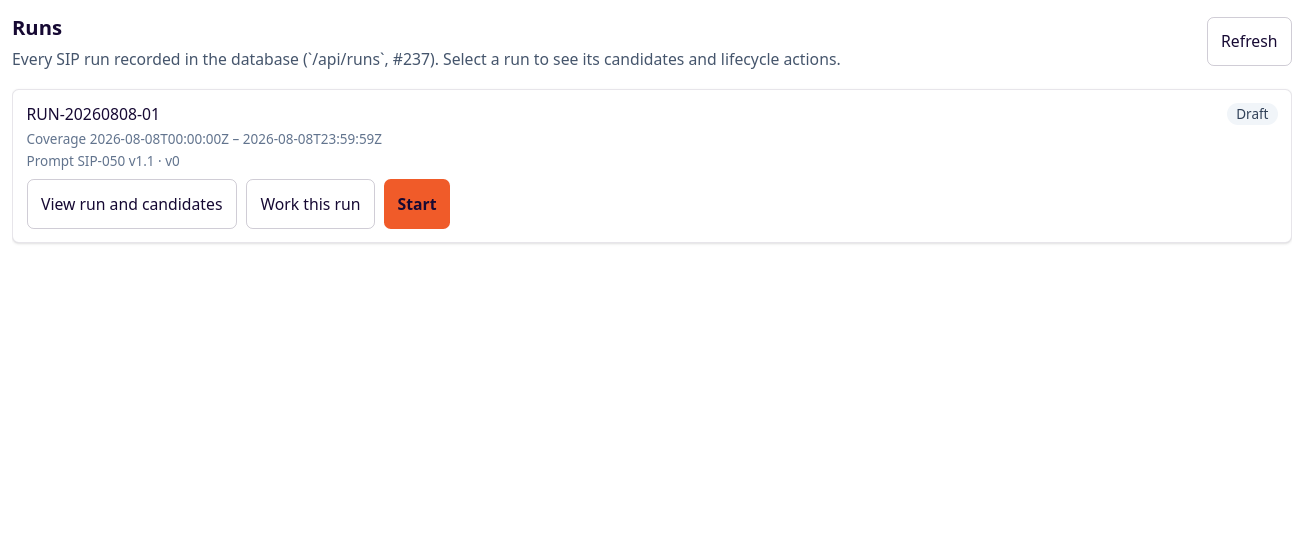
RunsListScreen › requires a reason before submitting an action
Click the button "Start": {"x": 417, "y": 204} top-left (384, 180), bottom-right (450, 229)
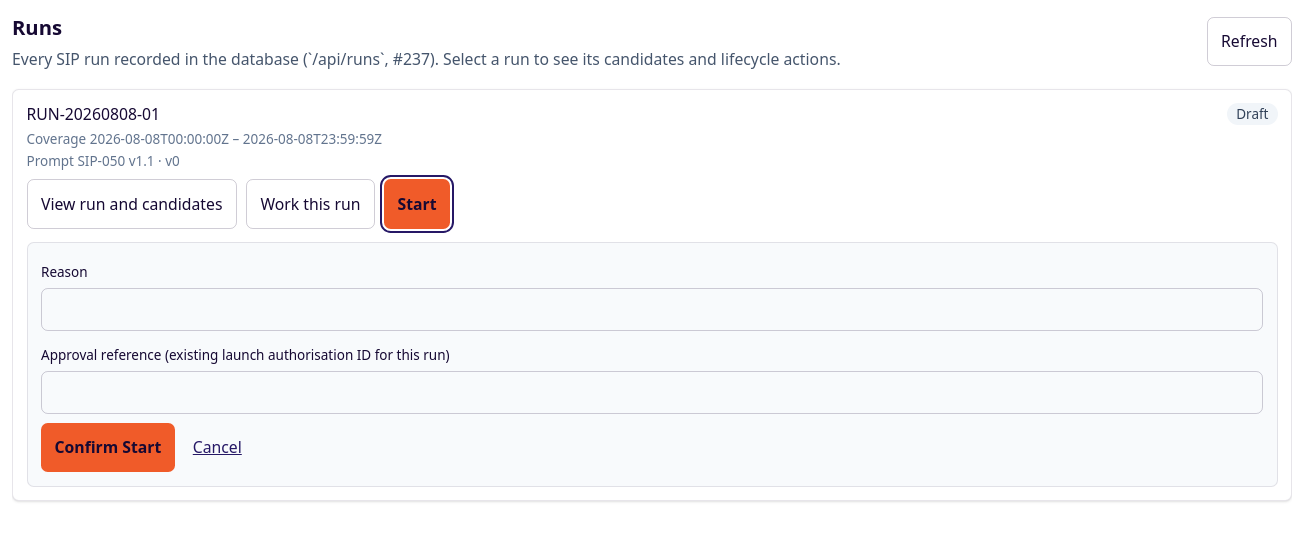
Click the button "Confirm Start": {"x": 108, "y": 448} top-left (41, 423), bottom-right (175, 472)
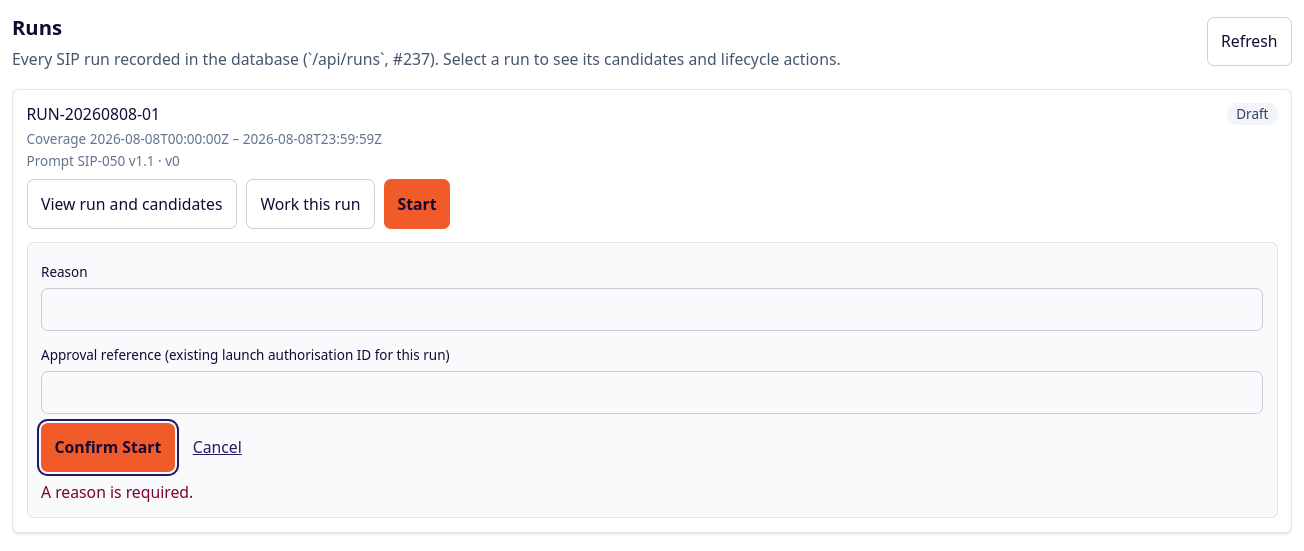
Check: the message reads "A reason is required.", box top-left (41, 482), bottom-right (193, 504)
